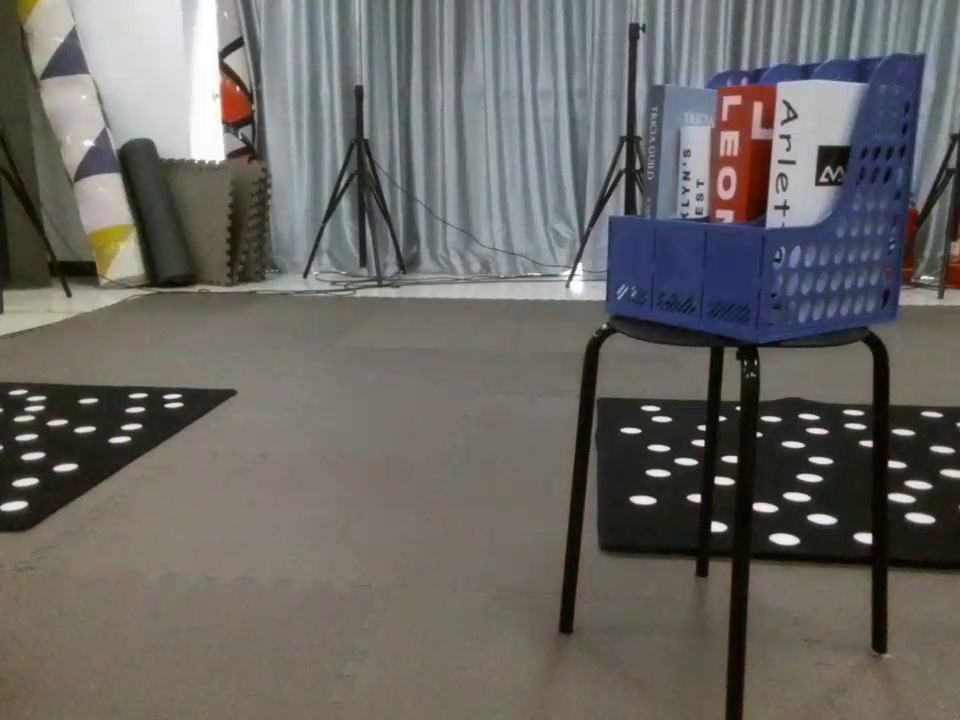files: (601, 49, 930, 348)
